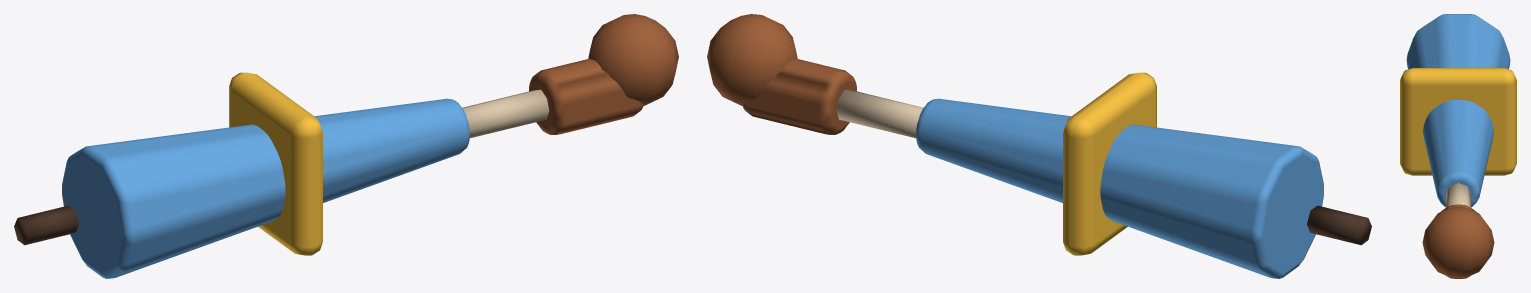
The model's file is umbrella.glb.
3 views of the same model, side by side, from view 1: azimuth 30°, elevation 25°; view 2: azimuth 150°, elevation 25°; view 3: azimuth 270°, elevation 25° (orthographic). The views are drawn at different scales.
Parts seen in each view (by area): view 1: Canopy, Strap, HandleEnd, Handle, Shaft, Tip.001; view 2: Canopy, Strap, HandleEnd, Handle, Shaft, Tip.001; view 3: Canopy, Strap, HandleEnd, Shaft, Handle.
Part boxes in pixels (<box>): Canopy: <box>62,98,469,278</box>; Strap: <box>229,72,322,255</box>; HandleEnd: <box>588,14,678,105</box>; Handle: <box>529,59,643,134</box>; Shaft: <box>462,89,549,138</box>; Tip.001: <box>14,205,78,245</box>; Canopy: <box>916,98,1323,278</box>; Strap: <box>1063,72,1156,255</box>; HandleEnd: <box>707,14,797,105</box>; Handle: <box>742,59,856,134</box>; Shaft: <box>836,89,923,138</box>; Tip.001: <box>1307,205,1371,245</box>; Canopy: <box>1406,14,1510,207</box>; Strap: <box>1400,68,1516,175</box>; HandleEnd: <box>1422,207,1494,278</box>; Shaft: <box>1446,183,1470,207</box>; Handle: <box>1441,204,1475,278</box>.
Bounding box in the file's own units: 0.638 × 0.13 × 0.13.
